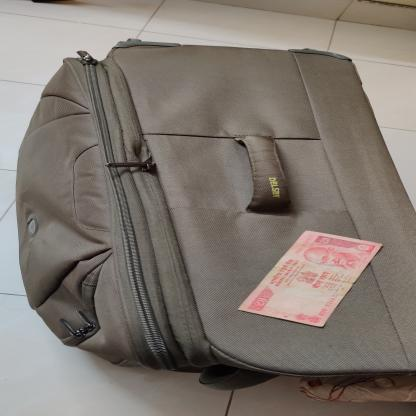Old20Front: (238, 230, 383, 327)
